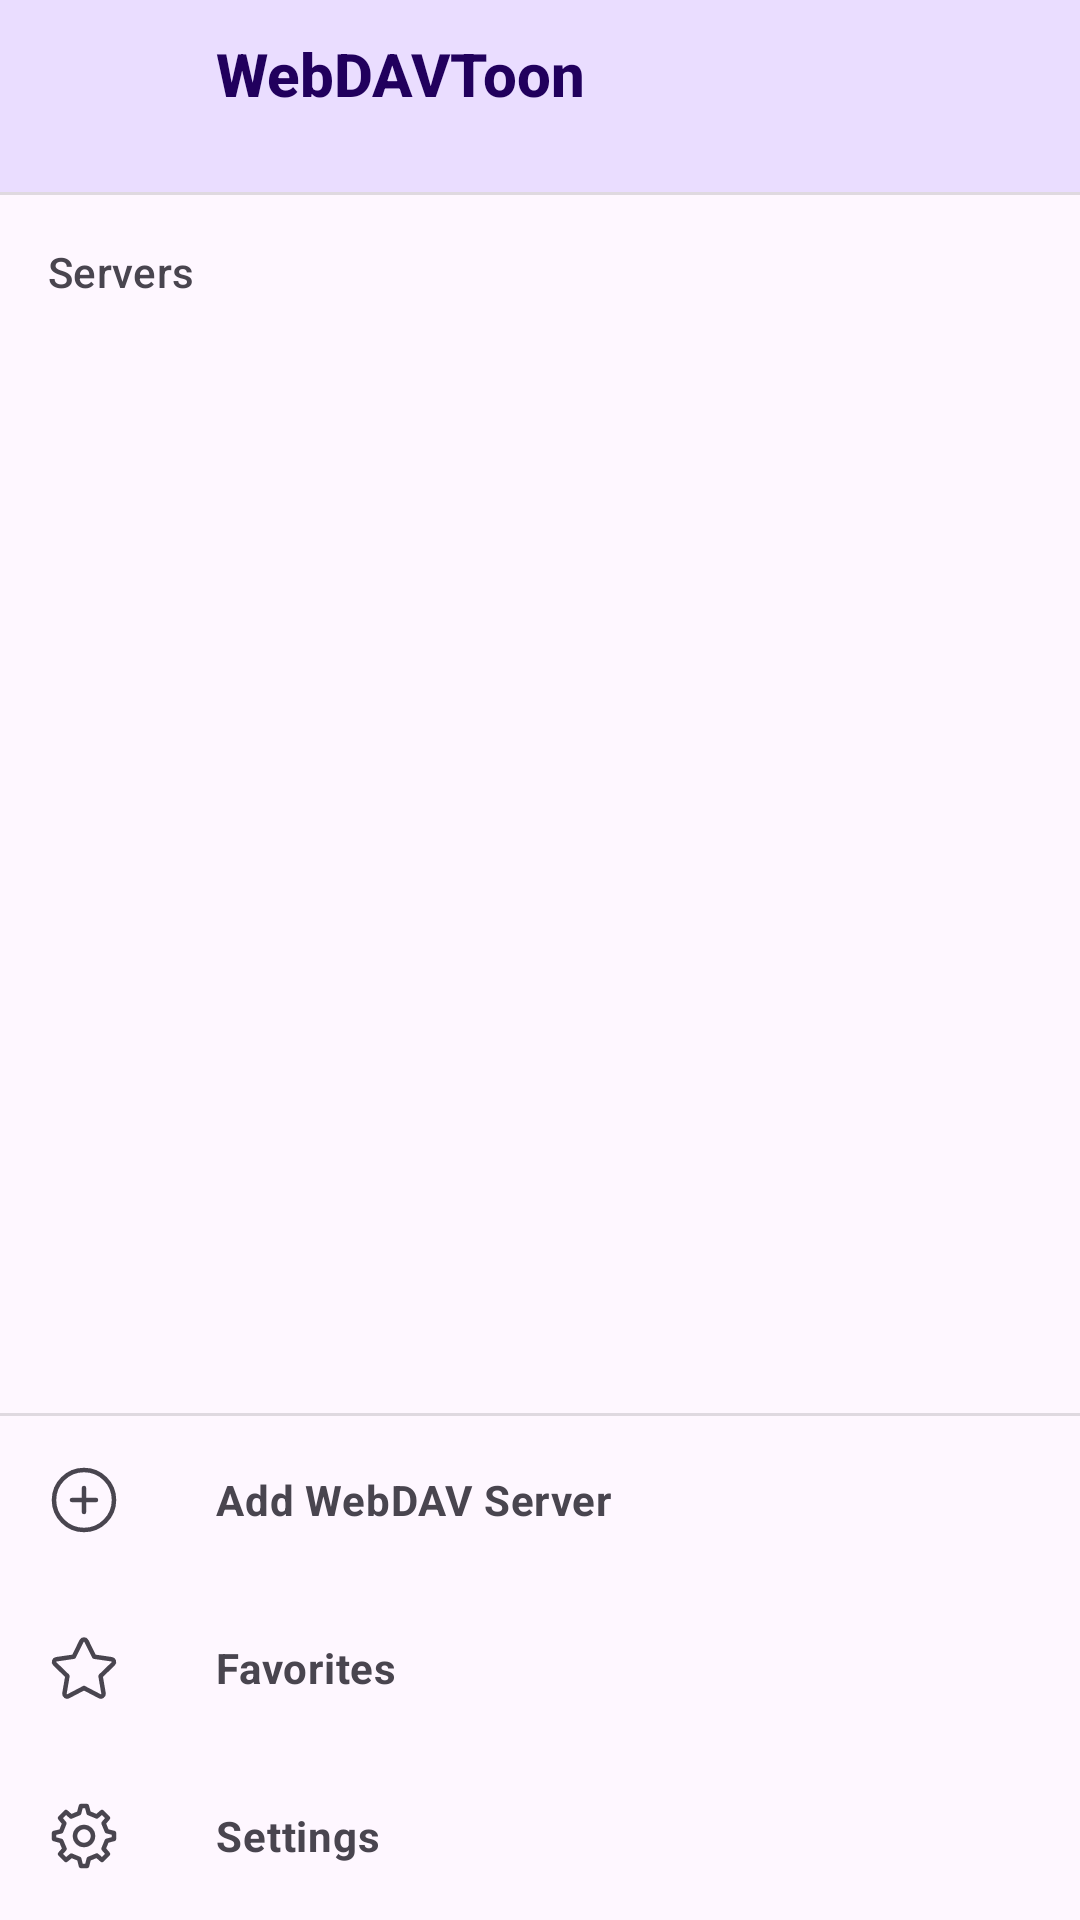

Locate icon controls on the screen. Image size 1080px×1920px, boxes as (x1=x1, y1=y1, x2=x2, y2=y2).
ior plus circle: (x1=51, y1=1467, x2=117, y2=1533)
ior star: (x1=52, y1=1637, x2=116, y2=1699)
